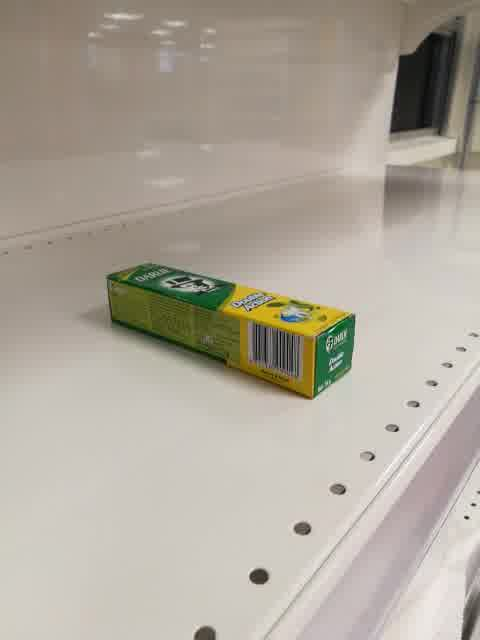toothpaste: (105, 263, 356, 400)
